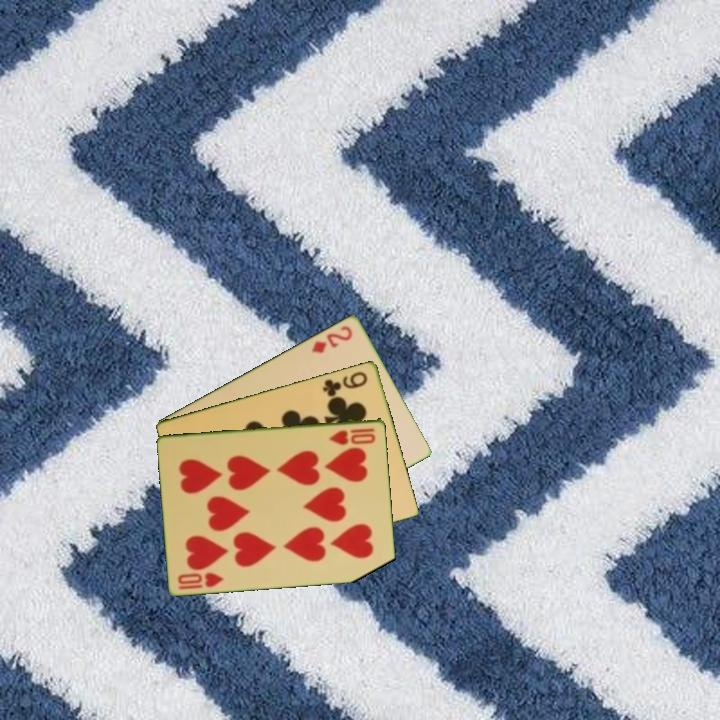10h: (174, 569, 227, 592), (326, 424, 378, 447)
2d: (309, 322, 355, 356)
9c: (319, 368, 370, 399)
